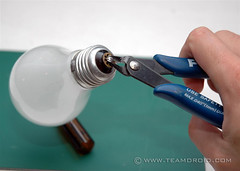Light_bulb: (8, 38, 119, 129)
